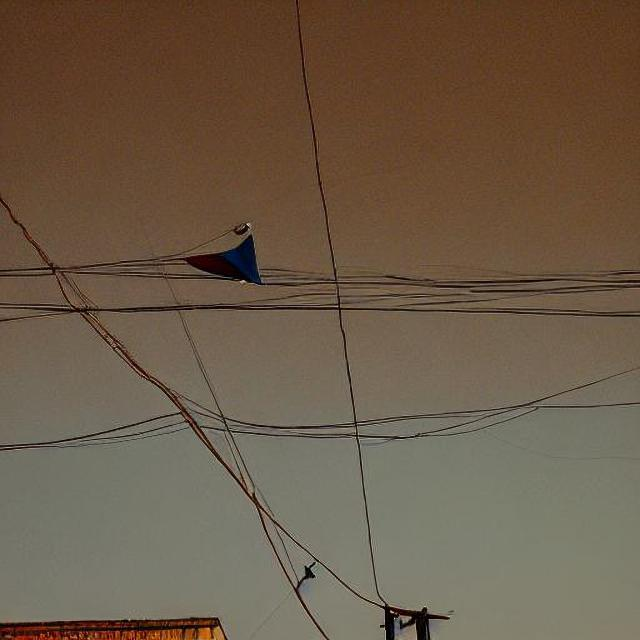floating object: (156, 222, 261, 284)
